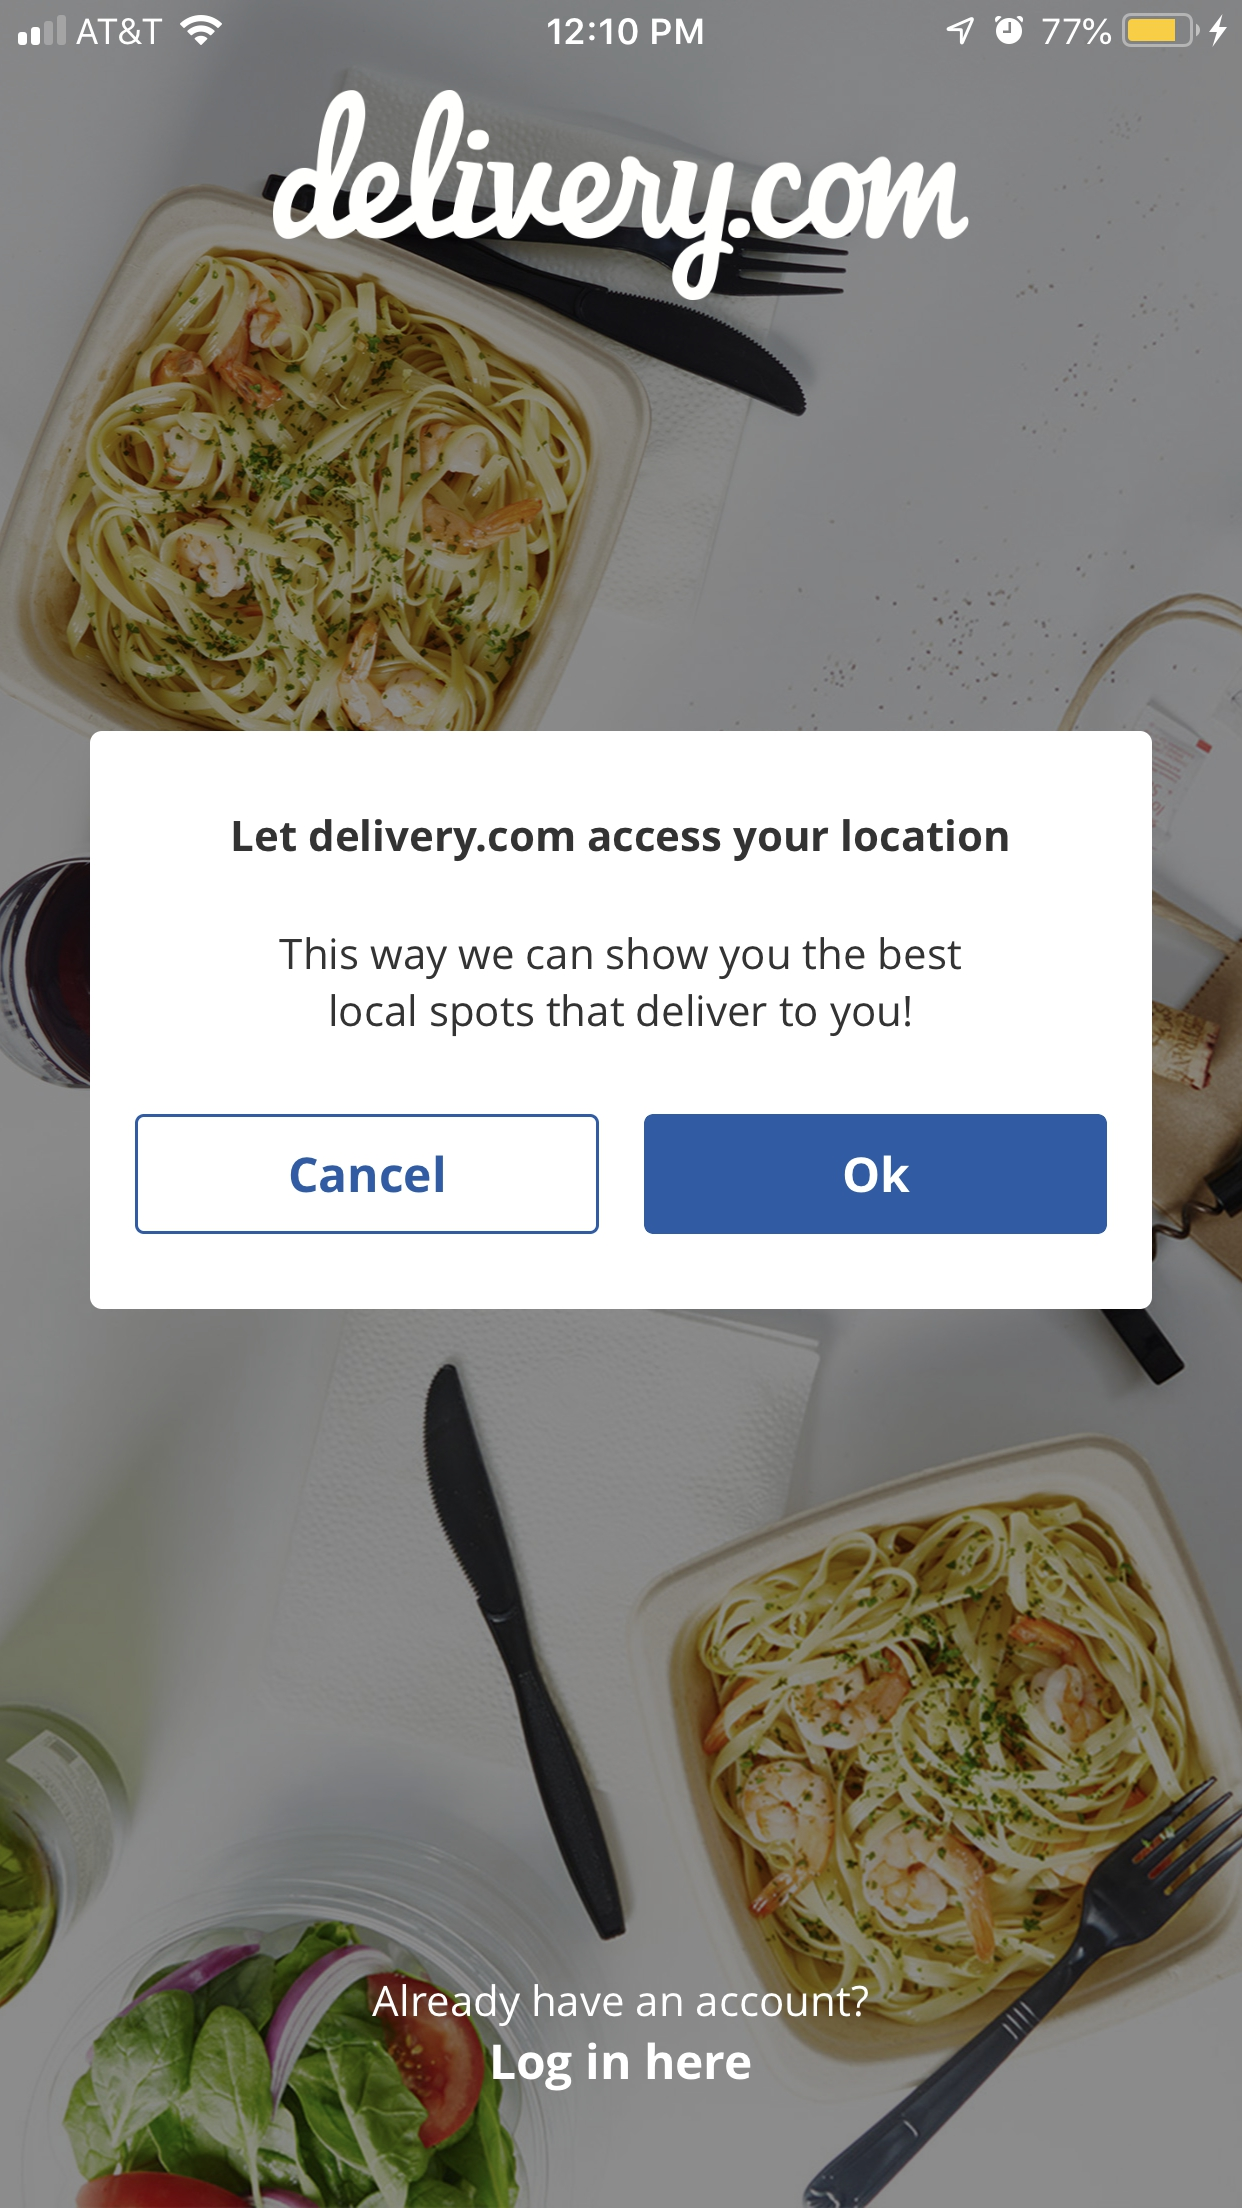BackgroundImage: (2, 2, 1242, 2208)
Image: (273, 88, 969, 302)
Text: (279, 936, 961, 1037), (234, 819, 1008, 863), (373, 1984, 870, 2028), (491, 2041, 752, 2093)
TextButton: (135, 1113, 601, 1234), (645, 1115, 1109, 1234)
UpperTaskBar: (2, 2, 1242, 49)
